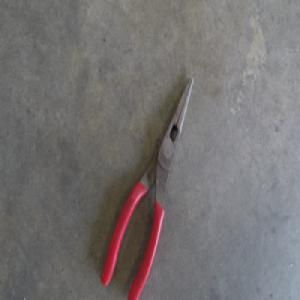Pliers: (101, 77, 193, 297)
